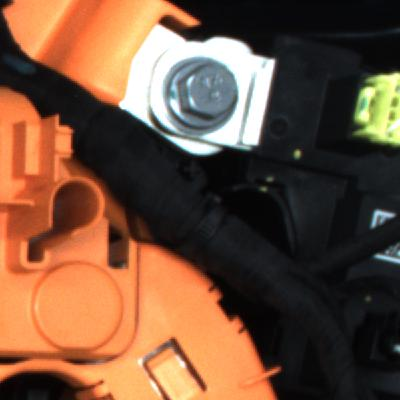nut_b: (153, 62, 248, 142)
